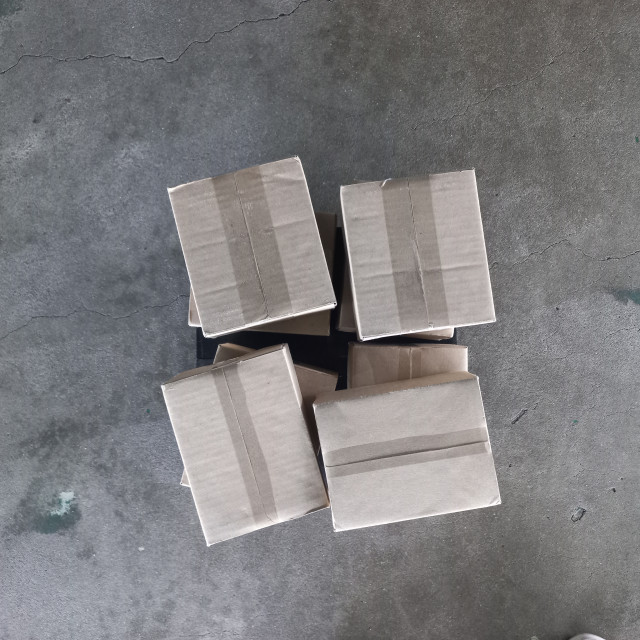box: (308, 91, 480, 296), (301, 301, 475, 487), (138, 104, 329, 267), (142, 298, 303, 474)
